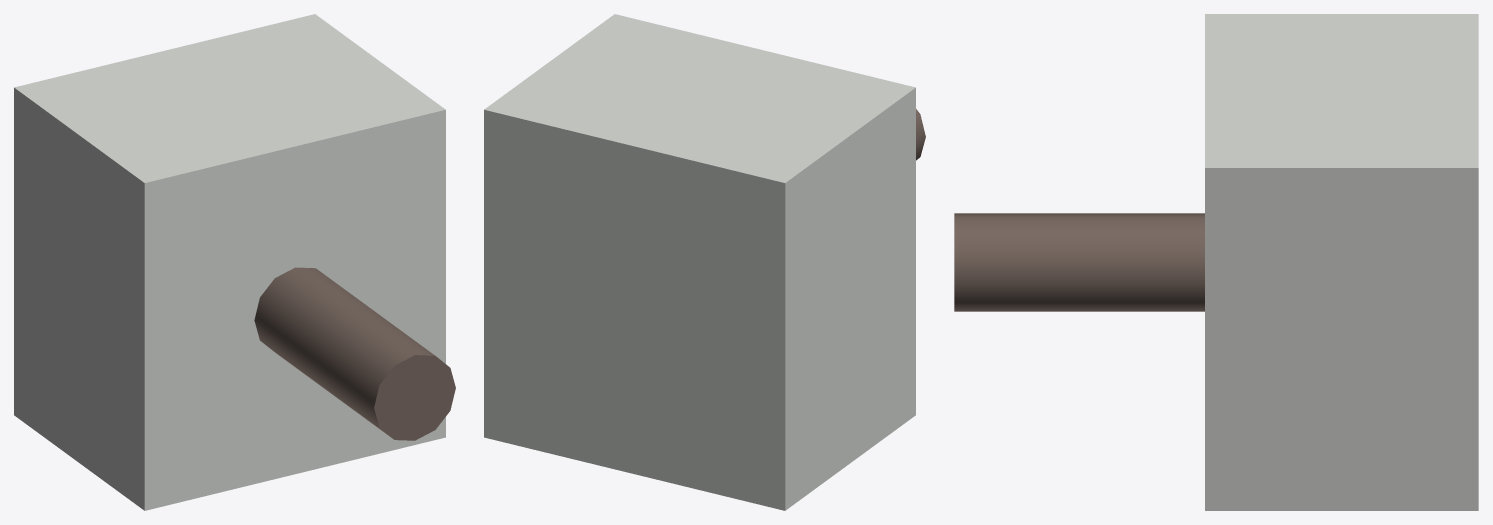
Rendered from perseverance_turret.gdrt.glb.
The picture shows the model from 3 angles, left to right: view 1: azimuth 30°, elevation 25°; view 2: azimuth 150°, elevation 25°; view 3: azimuth 270°, elevation 25°; orthographic projection. The views are drawn at different scales.
Parts seen in each view (by area): view 1: perseverance_turret.gdrt.mesh_Pale_thermal_blanket, perseverance_turret.gdrt.mesh_Heat-stained_alloy; view 2: perseverance_turret.gdrt.mesh_Pale_thermal_blanket; view 3: perseverance_turret.gdrt.mesh_Pale_thermal_blanket, perseverance_turret.gdrt.mesh_Heat-stained_alloy.
Part boxes in pixels (x1=…): perseverance_turret.gdrt.mesh_Pale_thermal_blanket: x1=14, y1=14, x2=445, y2=510; perseverance_turret.gdrt.mesh_Heat-stained_alloy: x1=254, y1=267, x2=455, y2=440; perseverance_turret.gdrt.mesh_Pale_thermal_blanket: x1=484, y1=14, x2=915, y2=510; perseverance_turret.gdrt.mesh_Pale_thermal_blanket: x1=1205, y1=14, x2=1478, y2=510; perseverance_turret.gdrt.mesh_Heat-stained_alloy: x1=954, y1=213, x2=1204, y2=311.
Size of the model in its own units: 0.125 by 0.13 by 0.18.
